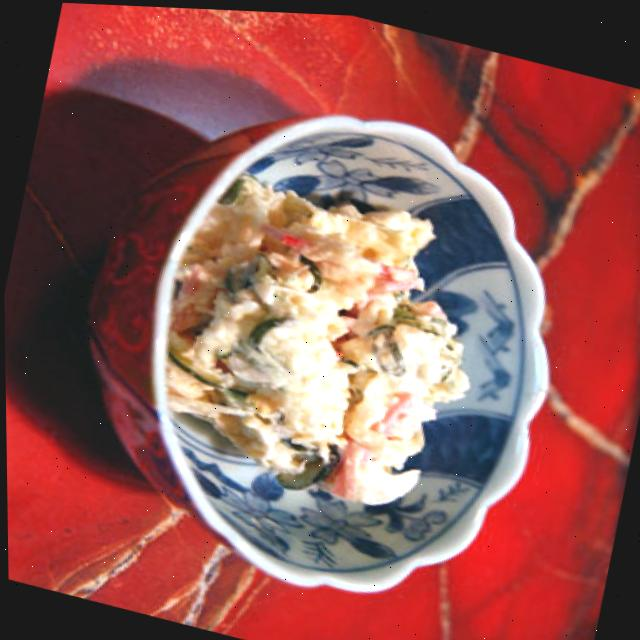蔬菜料理: (36, 50, 599, 640)
